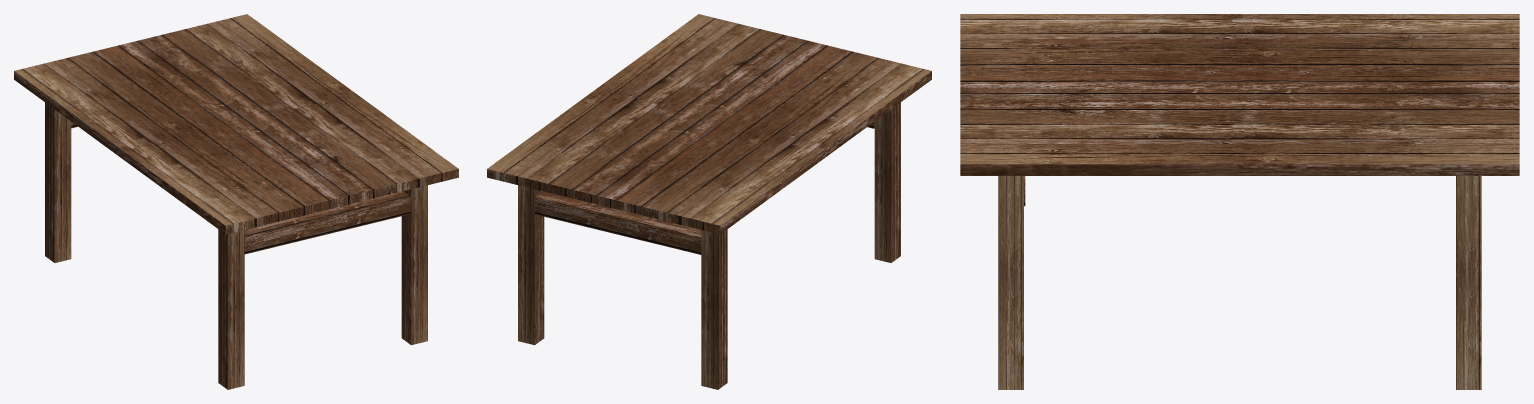
3 renders of one model, left to right at view 1: azimuth 30°, elevation 25°; view 2: azimuth 150°, elevation 25°; view 3: azimuth 270°, elevation 25°, orthographic. The views are drawn at different scales.
Parts seen in each view (by area): view 1: Platte, Bein, object 2, Bein_3, Bein_2; view 2: Platte, object 1, Bein_3, Bein, Bein_4; view 3: Platte, Bein_2, Bein_4.
Part boxes in pixels (<box>): Platte: <box>14,14,458,234</box>; Bein: <box>218,229,244,389</box>; object 2: <box>244,191,410,254</box>; Bein_3: <box>45,102,71,262</box>; Bein_2: <box>401,185,427,345</box>; Platte: <box>487,14,931,234</box>; object 1: <box>535,191,701,254</box>; Bein_3: <box>701,229,727,389</box>; Bein: <box>874,102,900,262</box>; Bein_4: <box>518,185,544,345</box>; Platte: <box>960,14,1519,175</box>; Bein_2: <box>998,176,1023,389</box>; Bein_4: <box>1456,176,1481,389</box>.
Size of the model in its own units: 140 by 103 by 220.
Materials: 7 (7 with a texture image).
